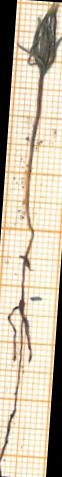flower: (18, 2, 61, 74)
root: (0, 290, 31, 475)
stem: (21, 74, 42, 297)
